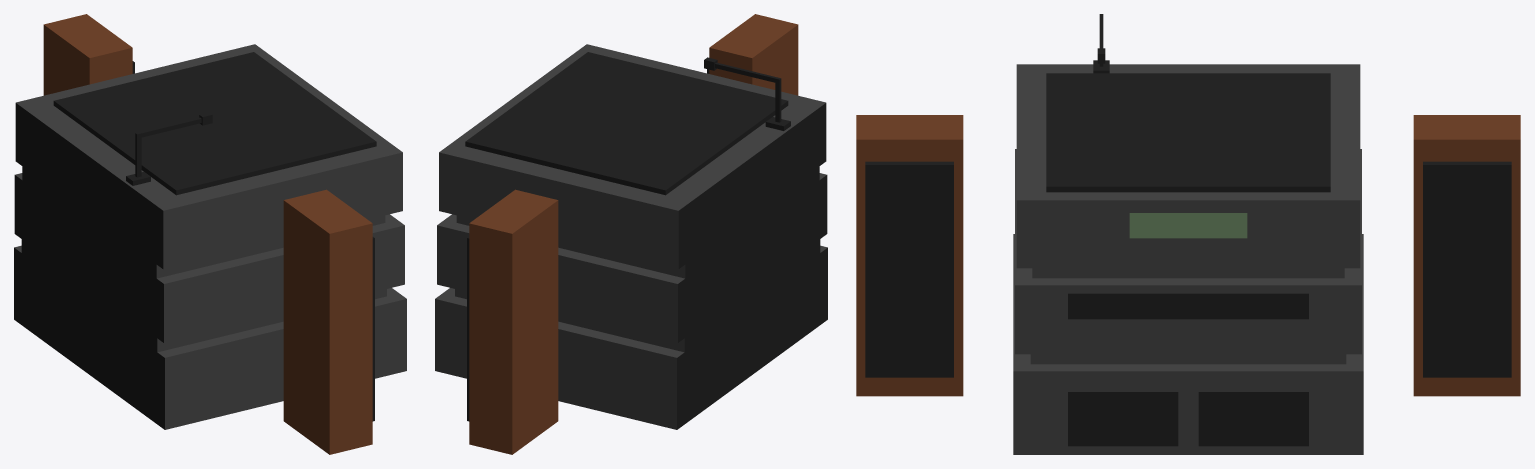
Rendered from soundSystem.fbx.
3 renders of one model, left to right at view 1: azimuth 30°, elevation 25°; view 2: azimuth 150°, elevation 25°; view 3: azimuth 270°, elevation 25°, orthographic. The views are drawn at different scales.
Parts seen in each view (by area): view 1: soundSystem; view 2: soundSystem; view 3: soundSystem.
Boxes of the visible parts, x1,y1,x2,y2 form: soundSystem: (14, 14, 406, 454); soundSystem: (435, 14, 827, 454); soundSystem: (856, 14, 1520, 454).
Size of the model in its own units: 90.39 by 95.56 by 185.
